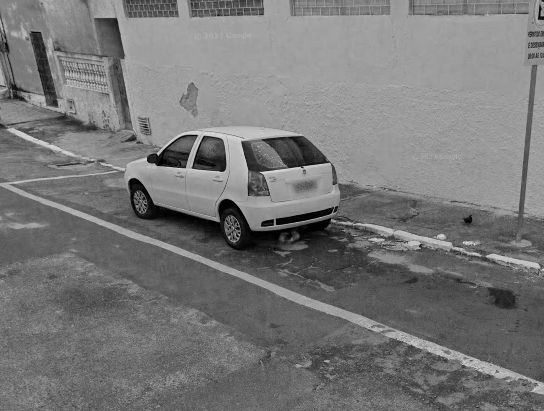car: (121, 119, 344, 257)
